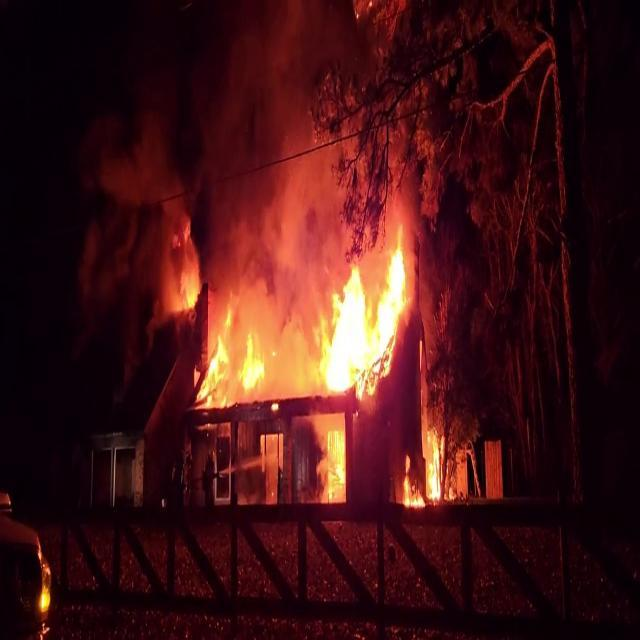Fire: (313, 227, 413, 399), (190, 300, 264, 414), (398, 417, 450, 514)
Smoke: (70, 1, 348, 311)
